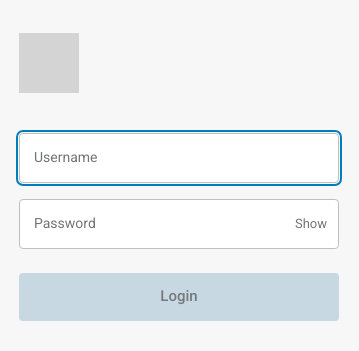
Test: E2E: Login Flow › shows error for wrong credentials
This screenshot has width=359, height=351.
Type "wrong" into the field with placeholder "Username" at (179, 158), box [19,133,339,183]
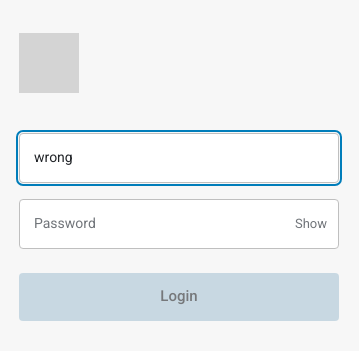
Type "wrong" into the password field with placeholder "Password" at (179, 224), box [19,199,339,249]
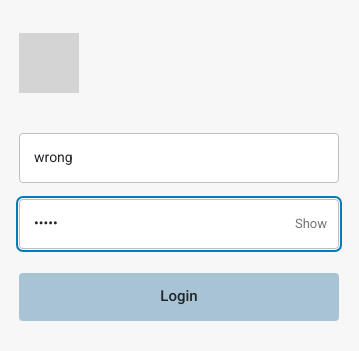
Click the button "Login" at (179, 297), box [19,273,339,321]
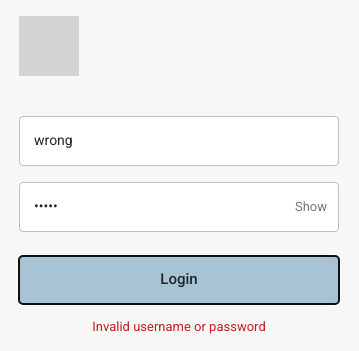
Now the text "Invalid username or password" is shown, box [92,319,266,334]
